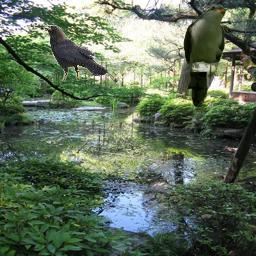Crow: (43, 25, 108, 81)
Cuckoo: (183, 4, 227, 107)
